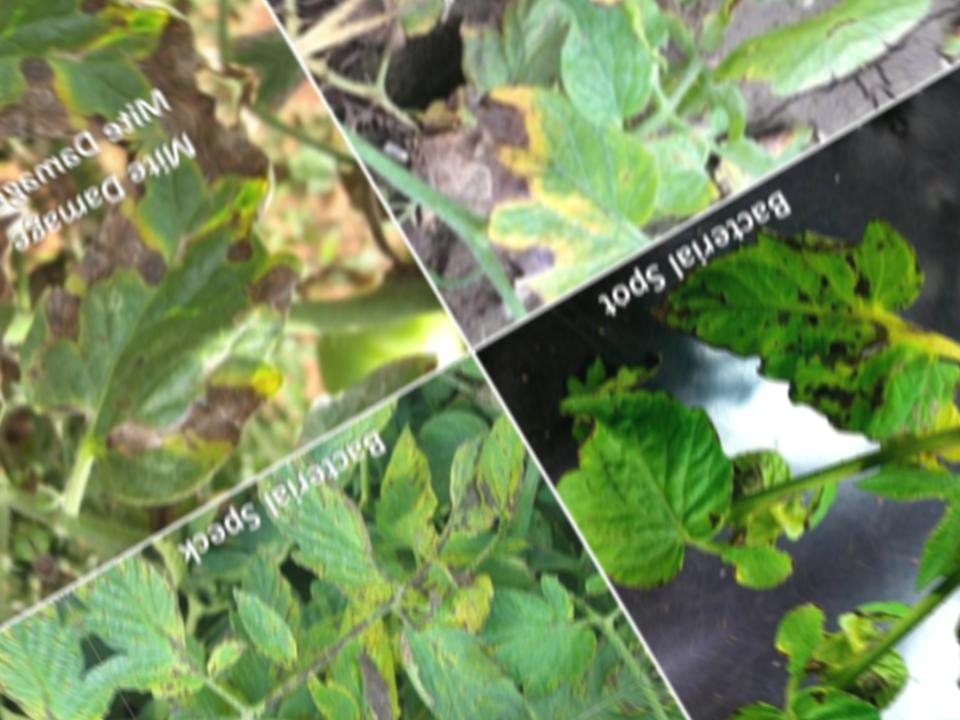Tomato Early blight leaf: (346, 0, 842, 311)
Tomato leaf bacterial spot: (638, 147, 960, 508), (506, 301, 791, 599), (246, 438, 433, 654), (66, 530, 266, 720), (369, 573, 558, 720), (171, 620, 442, 720), (209, 569, 329, 706), (299, 664, 389, 720)
